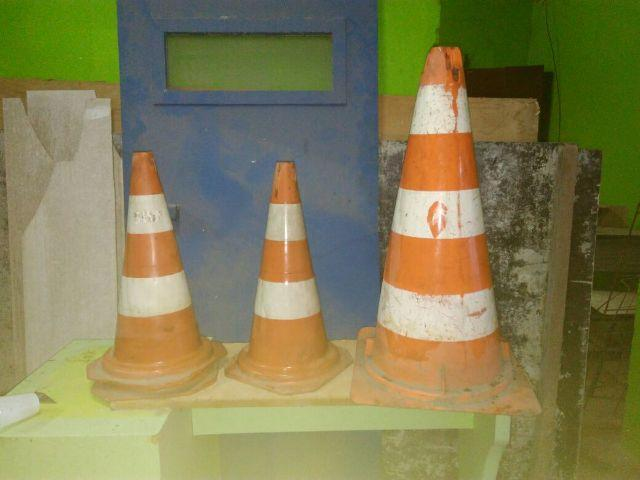traffic_cone: (349, 44, 542, 417), (86, 150, 228, 402), (224, 160, 353, 395)
